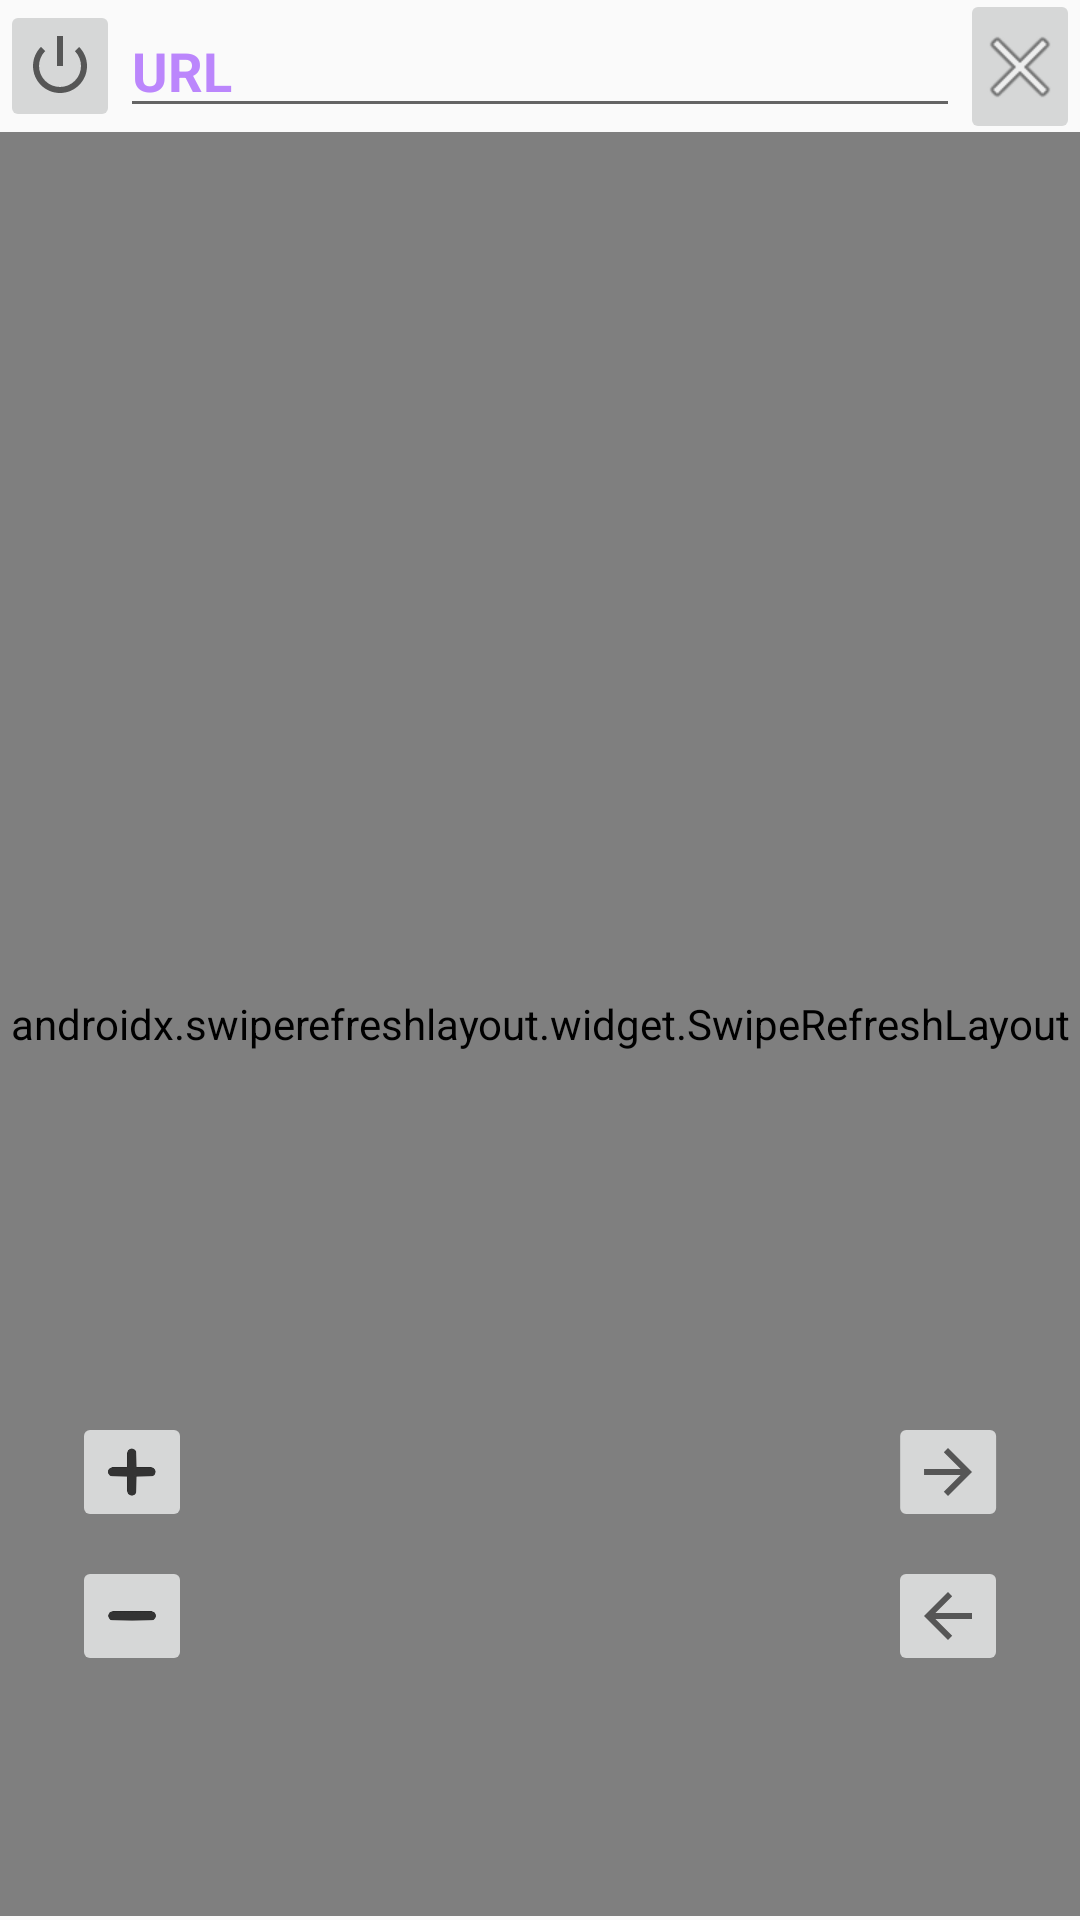

Named icons in this screenshot (1080px x 1920px) and their centers, (x,y):
close clear cancel: (1020,72)
lock power off: (60,66)
minus: (132,1616)
plus: (132,1472)
